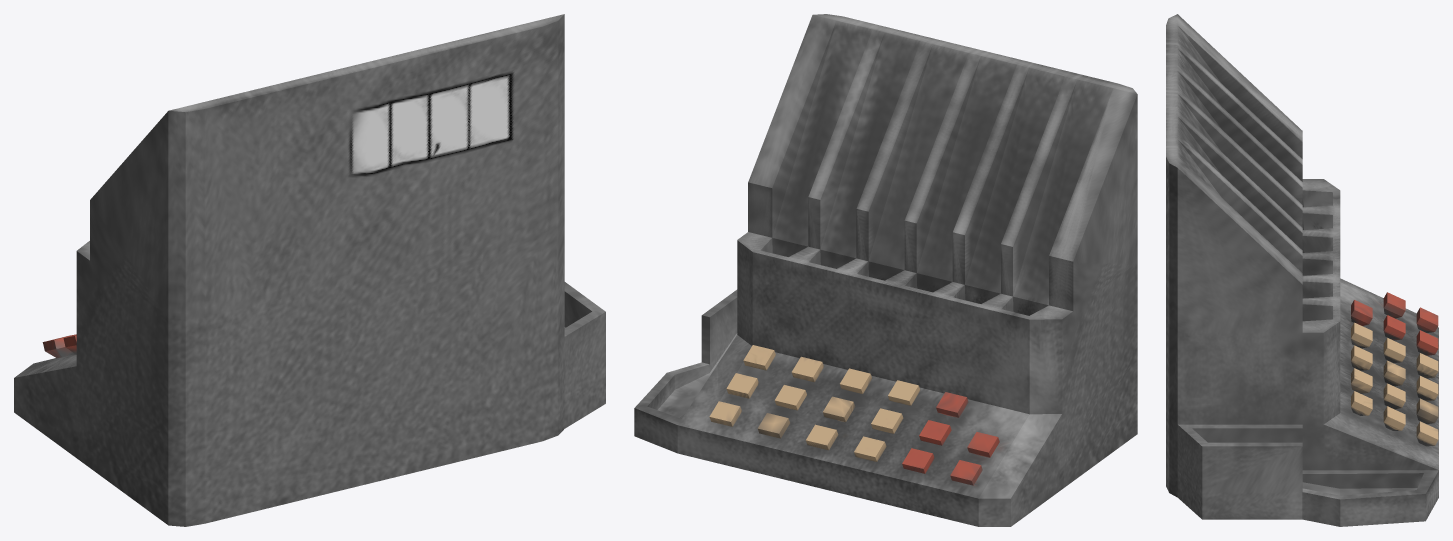
The model's file is cashier_textured.fbx.
The picture shows the model from 3 angles, left to right: view 1: azimuth 30°, elevation 25°; view 2: azimuth 150°, elevation 25°; view 3: azimuth 270°, elevation 25°; orthographic projection. The views are drawn at different scales.
Parts seen in each view (by area): view 1: Kasse_SeamsColor_ZBrushPolyMesh3D; view 2: Kasse_SeamsColor_ZBrushPolyMesh3D; view 3: Kasse_SeamsColor_ZBrushPolyMesh3D.
Part boxes in pixels (x1,y1,x2,y2): Kasse_SeamsColor_ZBrushPolyMesh3D: [14, 14, 605, 526]; Kasse_SeamsColor_ZBrushPolyMesh3D: [634, 14, 1137, 526]; Kasse_SeamsColor_ZBrushPolyMesh3D: [1166, 14, 1438, 526].
Size of the model in its own units: 47.63 by 40 by 30.
